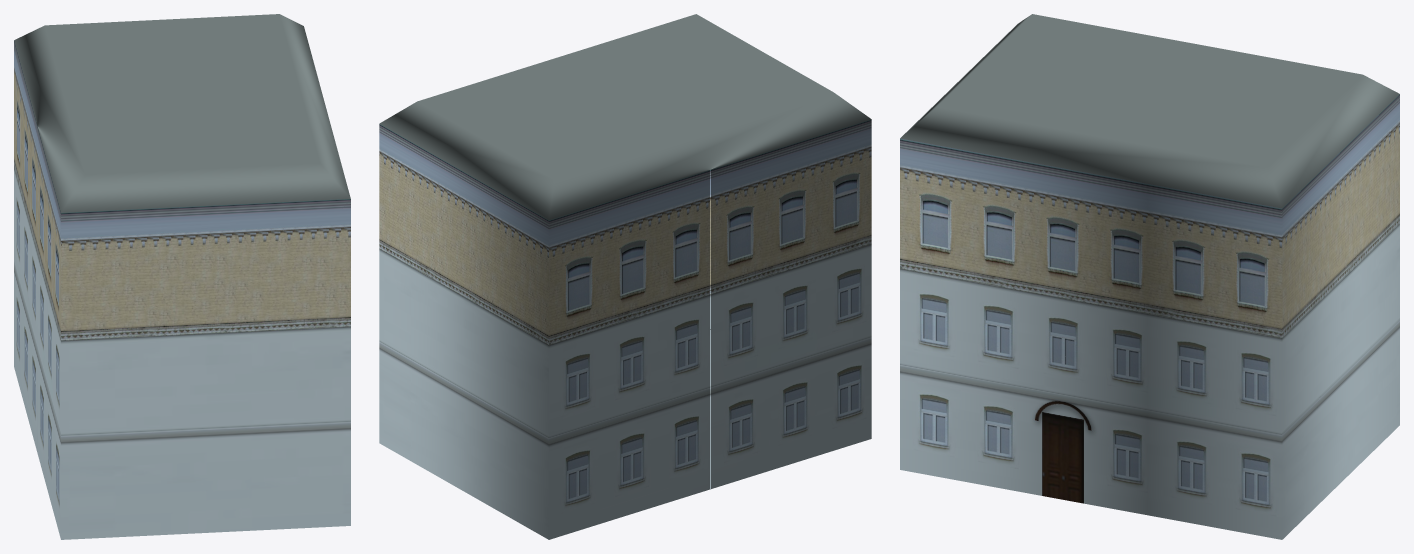
The model's file is lp-building15.fbx.
3 views of the same model, side by side, from view 1: azimuth 30°, elevation 25°; view 2: azimuth 150°, elevation 25°; view 3: azimuth 270°, elevation 25° (orthographic). The views are drawn at different scales.
Visible parts, largest first — view 1: 01houses.003; view 2: 01houses.003; view 3: 01houses.003.
Part boxes in pixels (x1,y1,x2,y2): 01houses.003: [14, 14, 350, 539]; 01houses.003: [379, 14, 871, 539]; 01houses.003: [900, 14, 1399, 539].
Bounding box in the file's own units: 612 × 551 × 700.
1 material, 1 textured.
